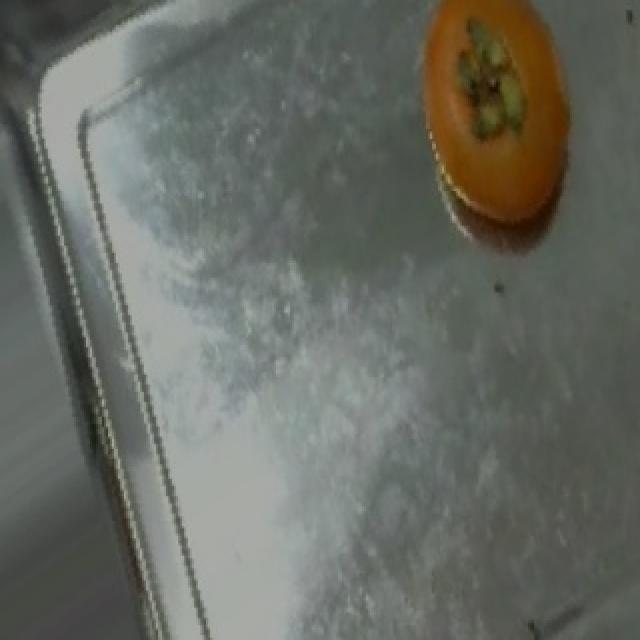Fruit: (394, 0, 602, 251)
